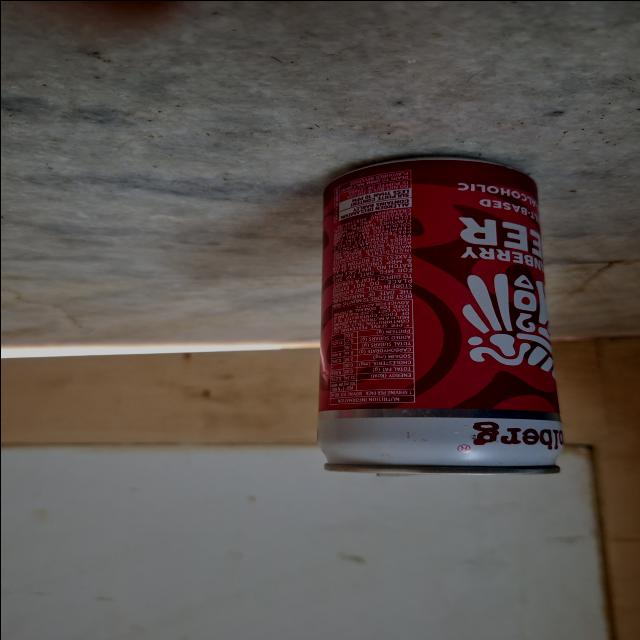Coolberg: (322, 164, 566, 486)
